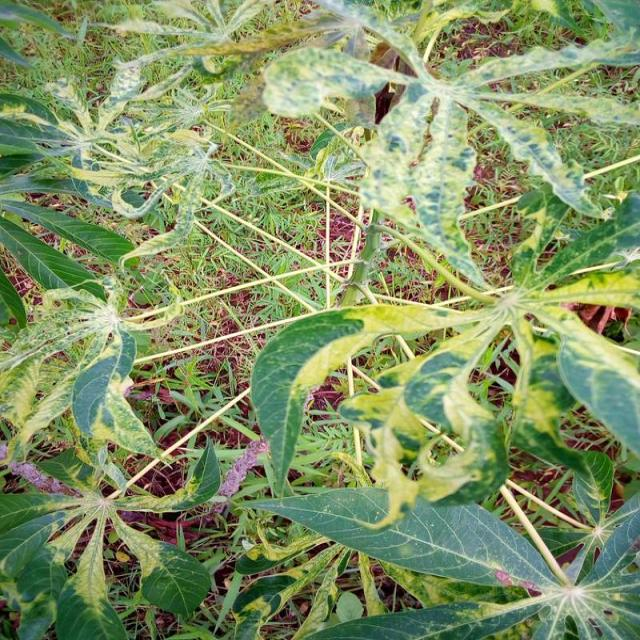cassava leaf: (248, 301, 486, 496), (234, 483, 562, 594)
